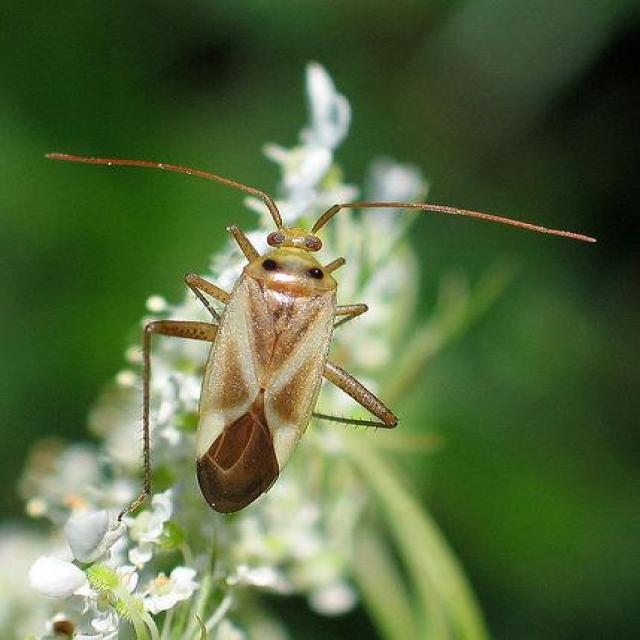Miridae-Adult-: (26, 140, 599, 515)
